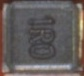Induktor: (4, 1, 80, 75)
